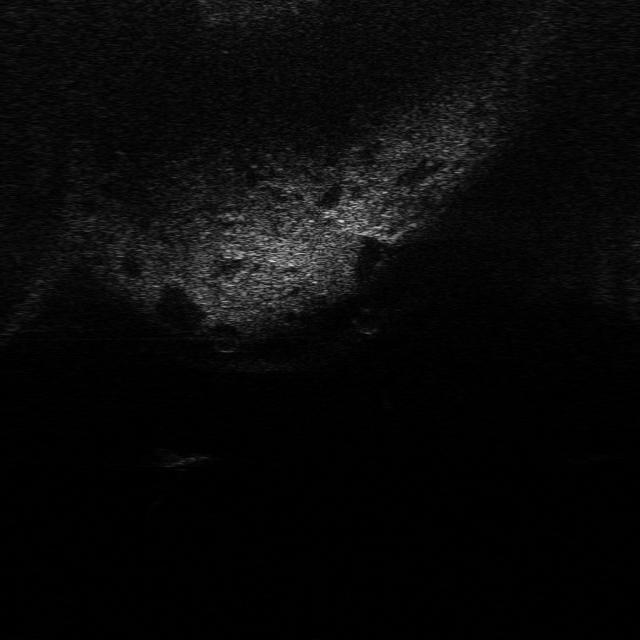ball: (348, 306, 387, 336)
cube: (150, 444, 210, 469)
